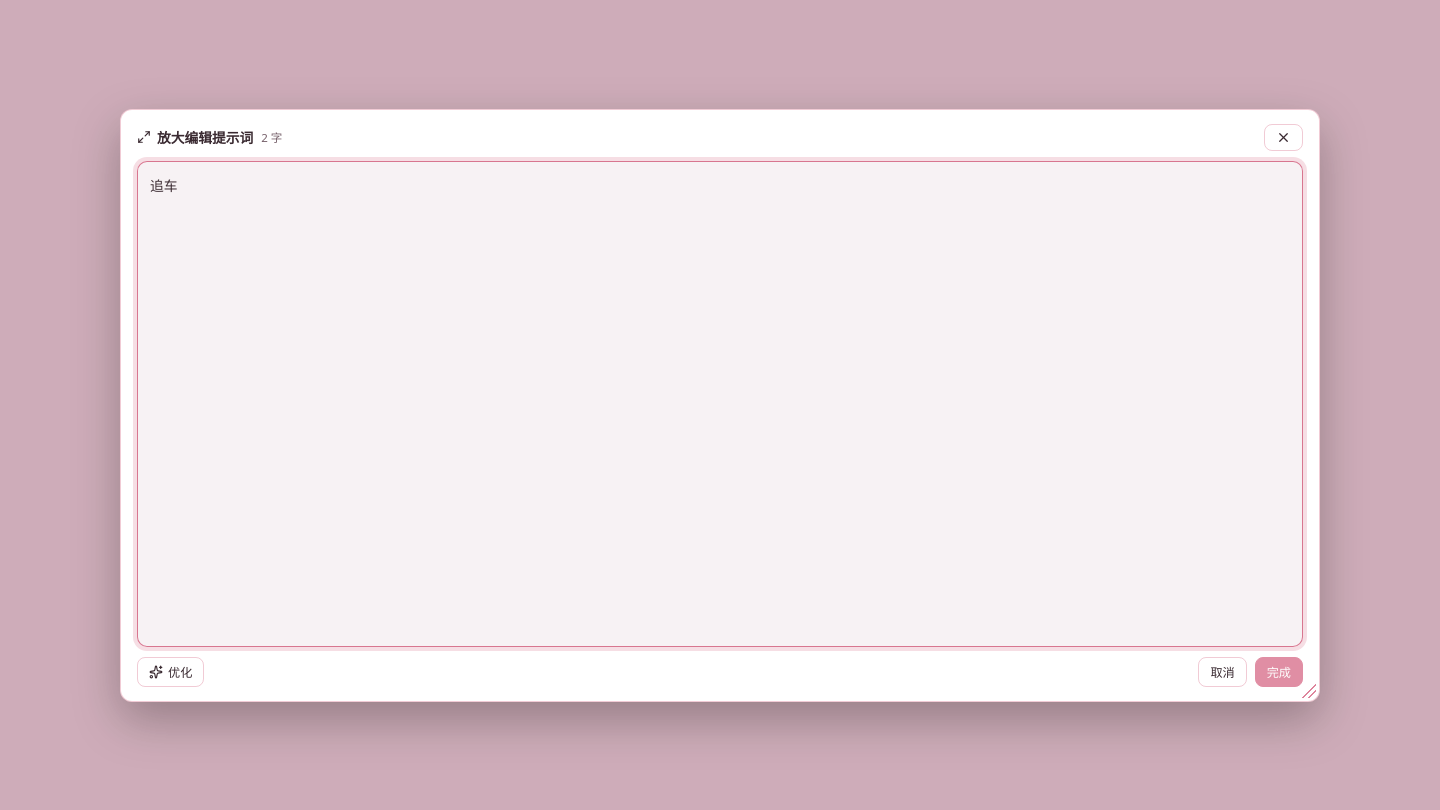
Scenario: CanvasBeefPromptEditor and optimizer › a failed optimization leaves the prompt as it was
Click the button "优化".
click(171, 672)  # box [137, 656, 204, 686]
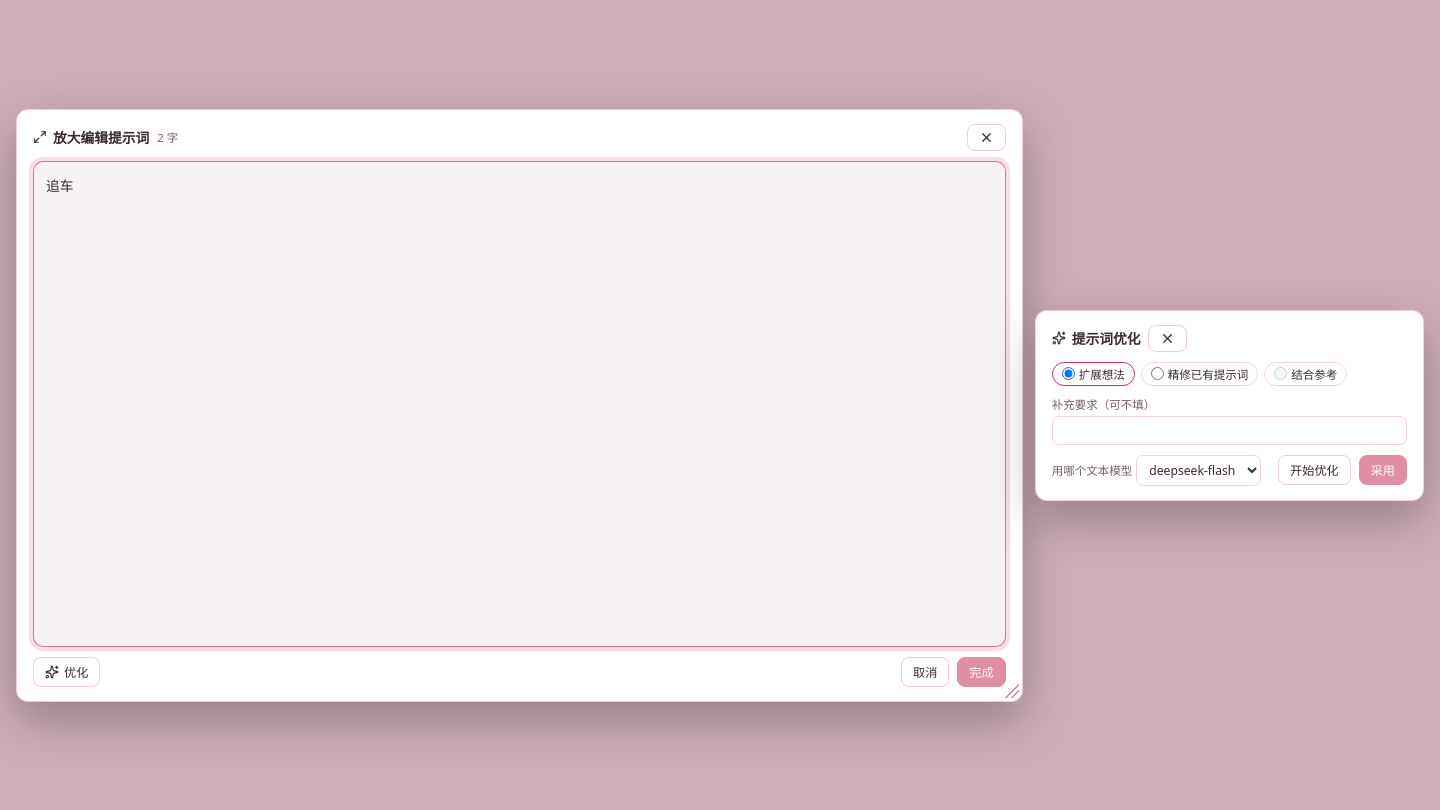
Expected: the button "开始优化" is enabled
Click the button "开始优化".
click(1314, 470)  # box [1278, 455, 1351, 485]
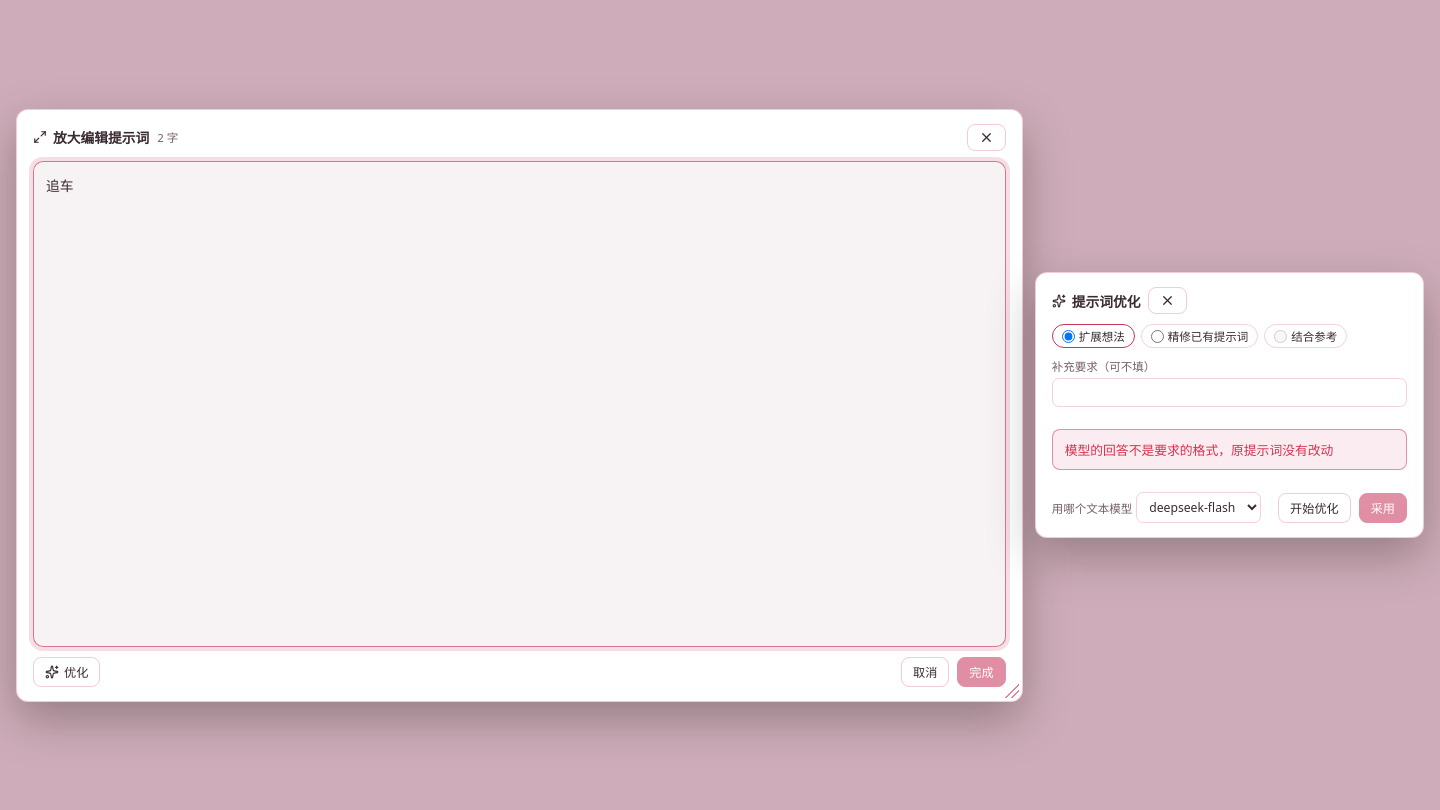
Expected: the text box named "提示词" holds "追车", [33, 160, 1006, 646]
Expected: the button "采用" is disabled, [1359, 492, 1407, 522]
Expected: the message shows "原提示词没有改动", [1065, 441, 1333, 459]
